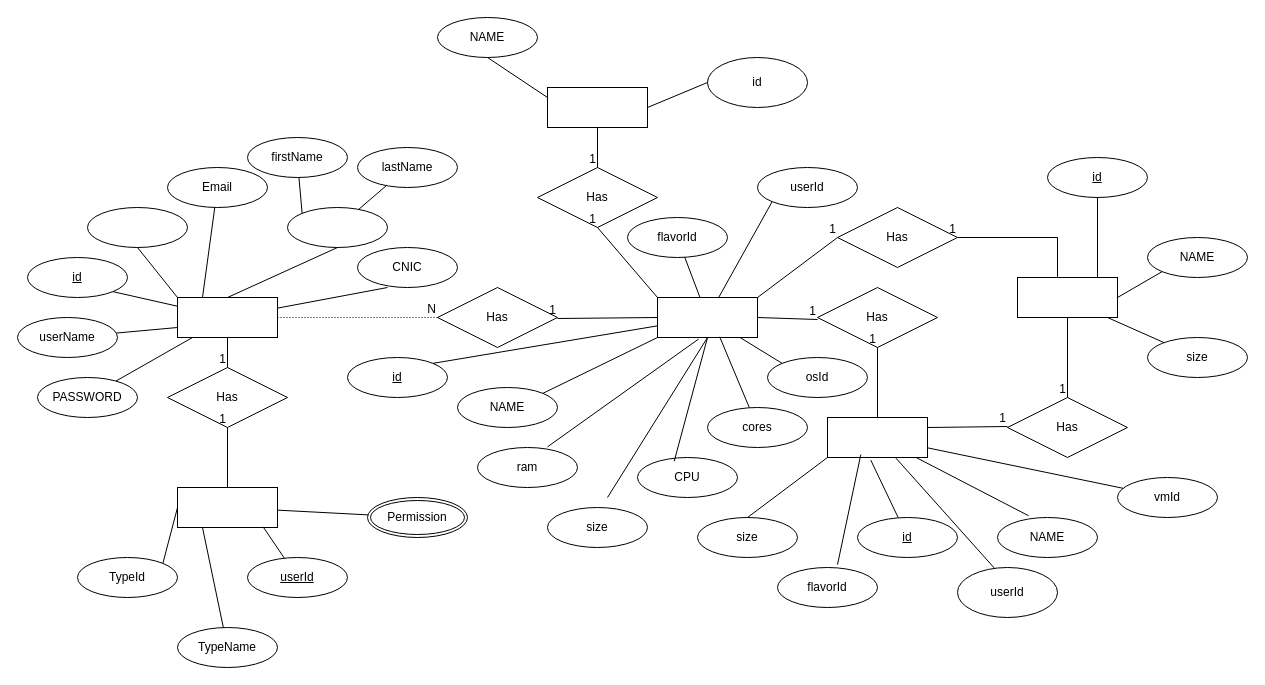
Image size: 1265x685. Some labels were removed from this diagram. The box of each missing label's shape, as (x1, y1, x2, y2) in pixels:
Disk Flavour: (1016, 276, 1118, 318)
Disks: (826, 416, 928, 458)
Full Name: (286, 206, 388, 248)
Oper ating System: (546, 86, 648, 128)
phoneNumber: (86, 206, 188, 248)
User Type: (176, 486, 278, 528)
Users: (176, 296, 278, 338)
Virtual Machine: (656, 296, 758, 338)
